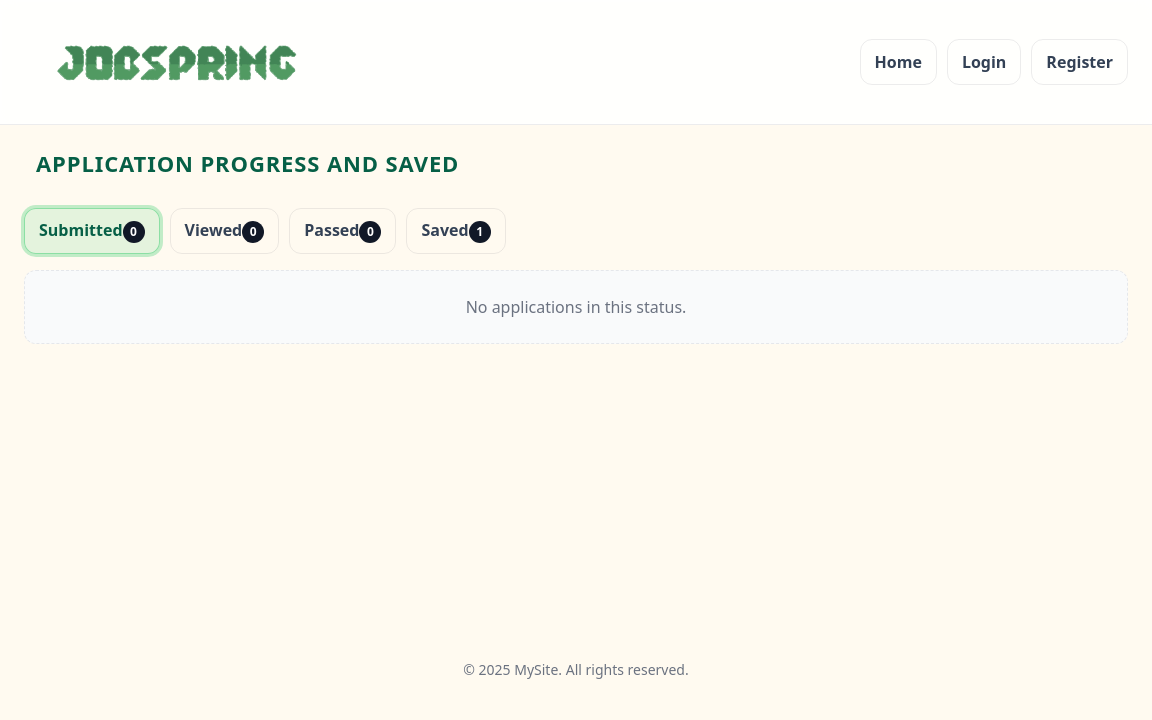
shows saved jobs when 'Saved' tab clicked
This screenshot has width=1152, height=720.
Click the tab "Saved 1". click: [456, 231]
box: [406,208,506,254]
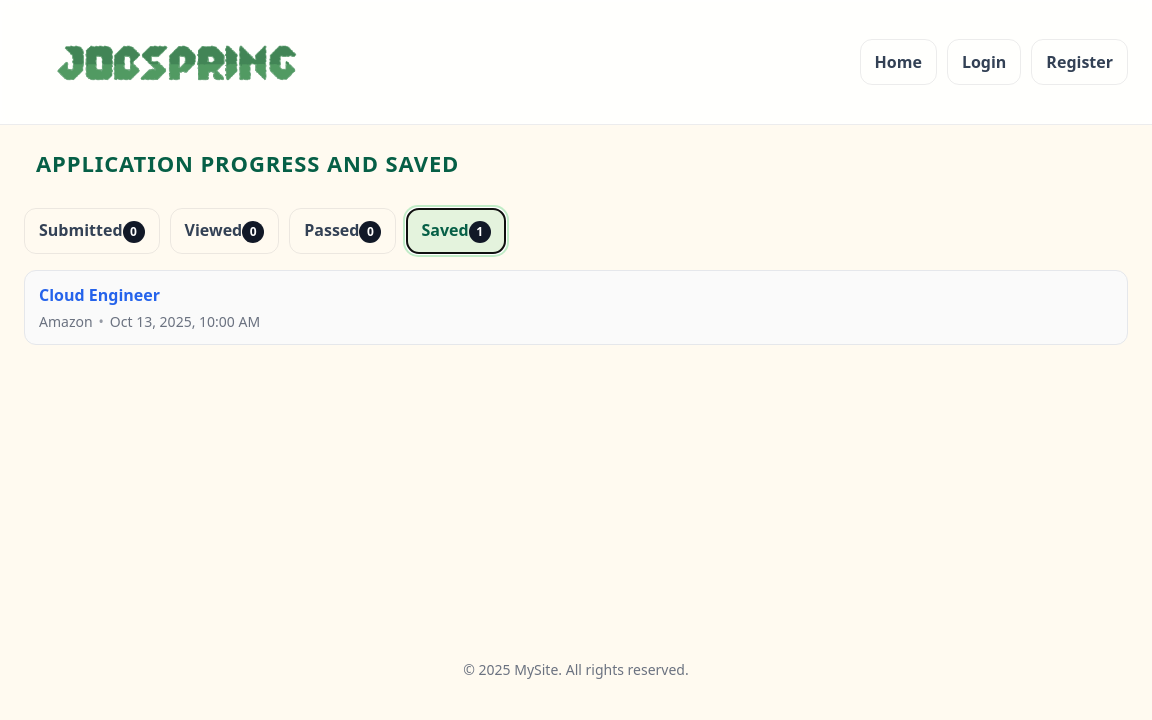
Expected: the link "Cloud Engineer" is shown, [39,284,160,306]
Expected: the text "Amazon" is shown, [39,310,93,332]
